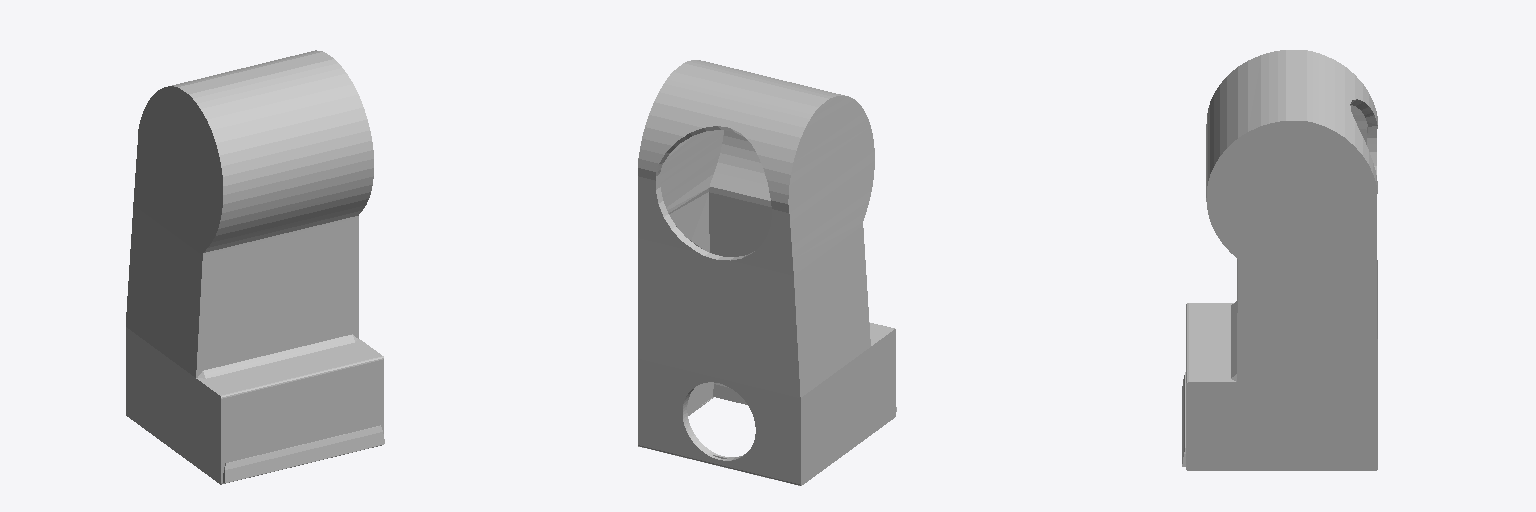
Rendered from PiernaDer.obj.
3 views of the same model, side by side, from view 1: azimuth 30°, elevation 25°; view 2: azimuth 150°, elevation 25°; view 3: azimuth 270°, elevation 25° (orthographic).
Parts seen in each view (by area): view 1: PiernaDer; view 2: PiernaDer; view 3: PiernaDer.
Boxes of the visible parts, <box> form: PiernaDer: <box>126,50,384,484</box>; PiernaDer: <box>638,60,896,485</box>; PiernaDer: <box>1182,50,1377,470</box>.
Size of the model in its own units: 10.8 by 22.18 by 11.23.